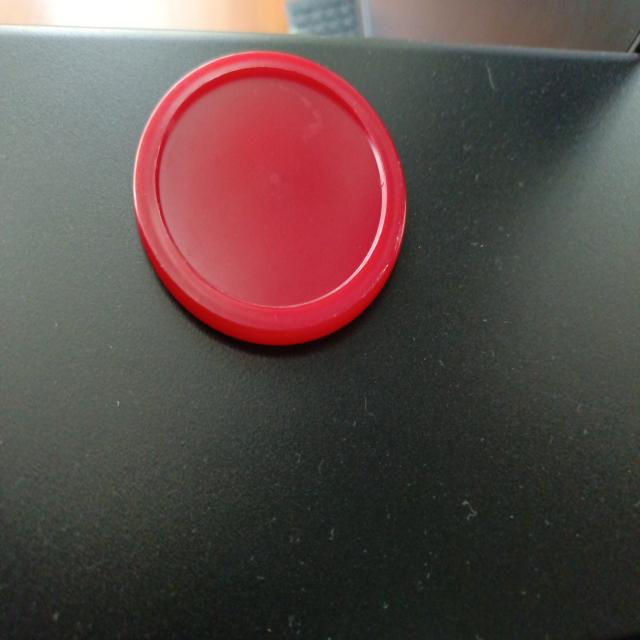chip: (134, 44, 410, 350)
